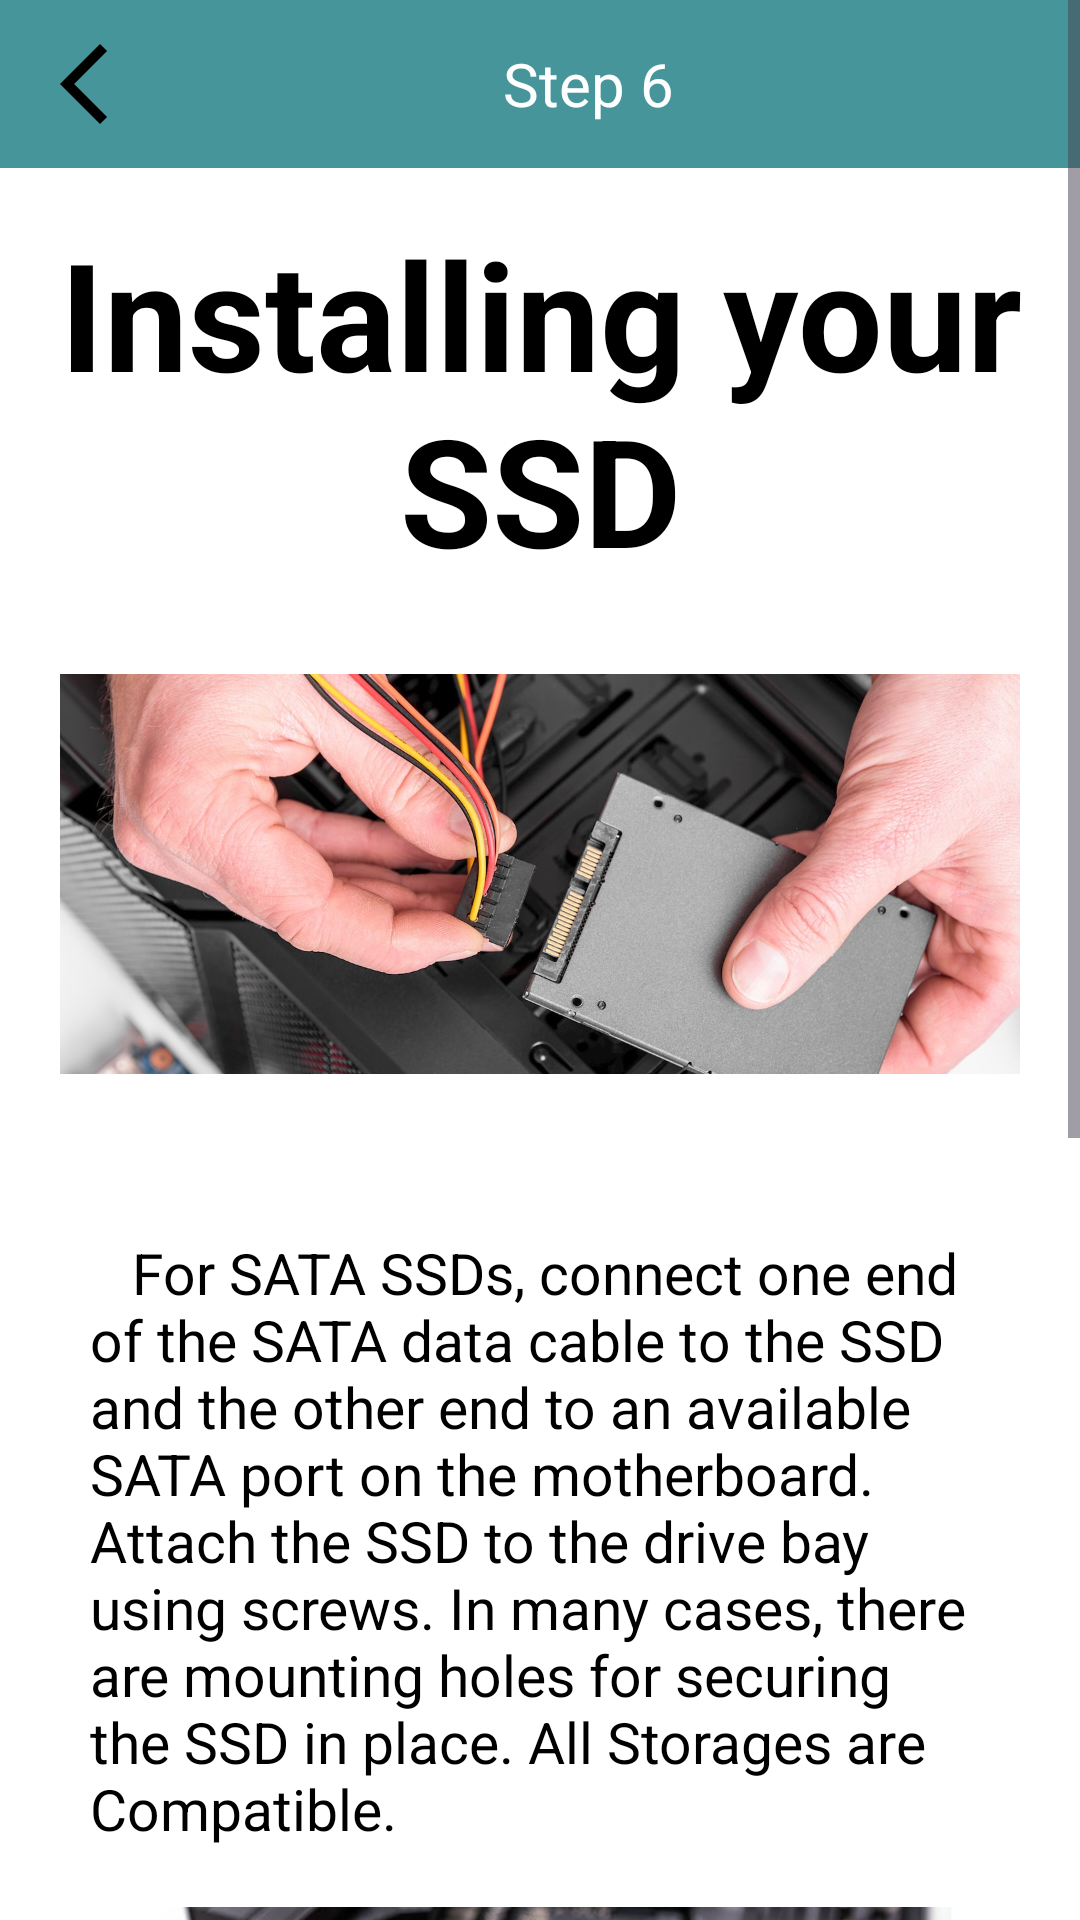

Locate icon controls on the screen. Image size 1080 x 1920, boxes as (x1, y1, x2, y2).
Back: (60, 44, 107, 124)
